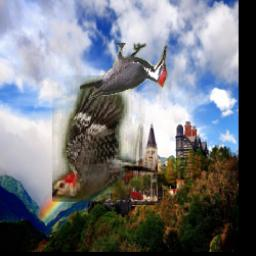Woodpecker: (51, 75, 157, 202), (80, 44, 168, 100)
